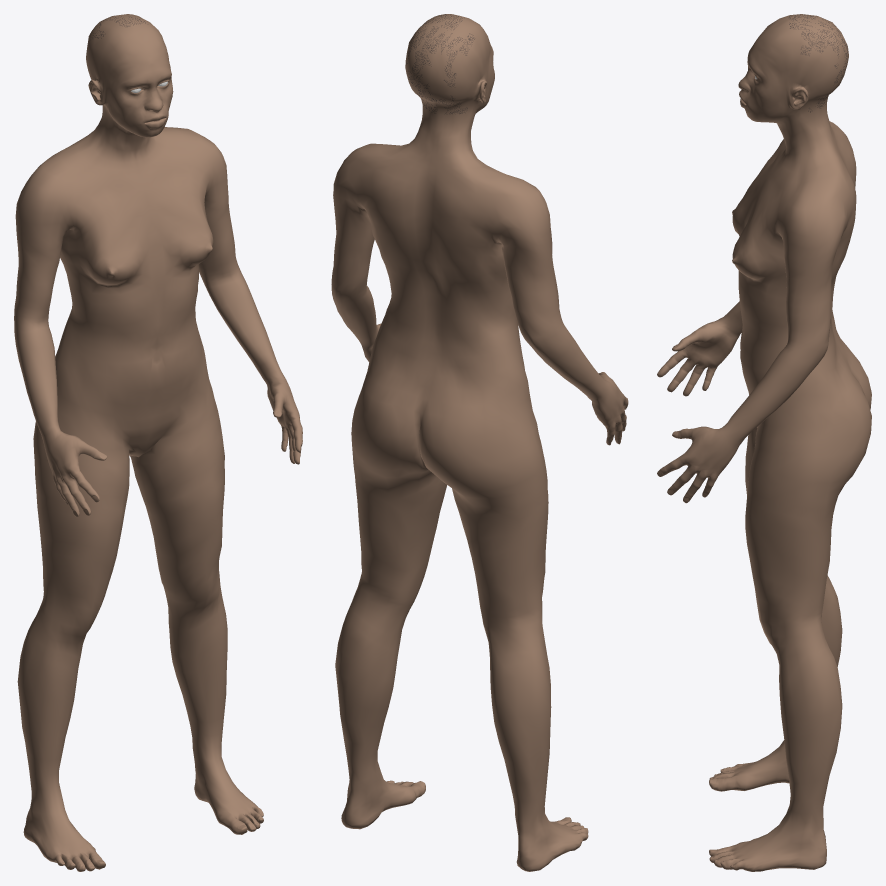
File: female-body.glb
The picture shows the model from 3 angles, left to right: view 1: azimuth 30°, elevation 25°; view 2: azimuth 150°, elevation 25°; view 3: azimuth 270°, elevation 25°; orthographic projection. The views are drawn at different scales.
Visible parts, largest first — view 1: female-body; view 2: female-body; view 3: female-body.
Boxes of the visible parts, x1,y1,x2,y2 form: female-body: [14, 14, 302, 871]; female-body: [331, 14, 628, 871]; female-body: [657, 14, 871, 871].
Size of the model in its own units: 0.5243 by 1.67 by 0.4029.
